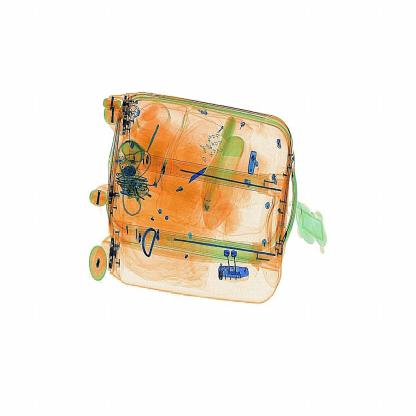pliers: (186, 160, 214, 193)
